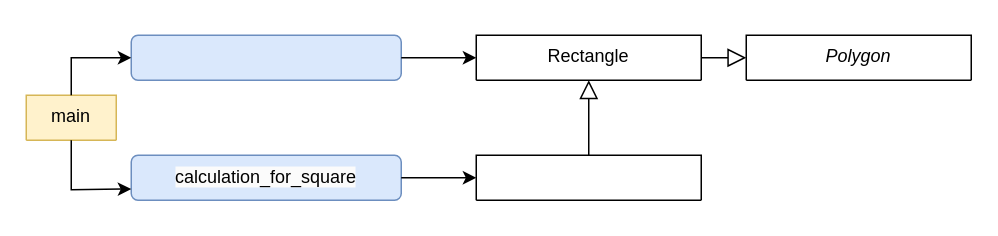
Image size: 998x236. Some labels were removed from this diagram. Each missing label, with the centre of its shape:
"calculation_for_rectangle" goes at point 265,57.
"Square" goes at point 588,177.
